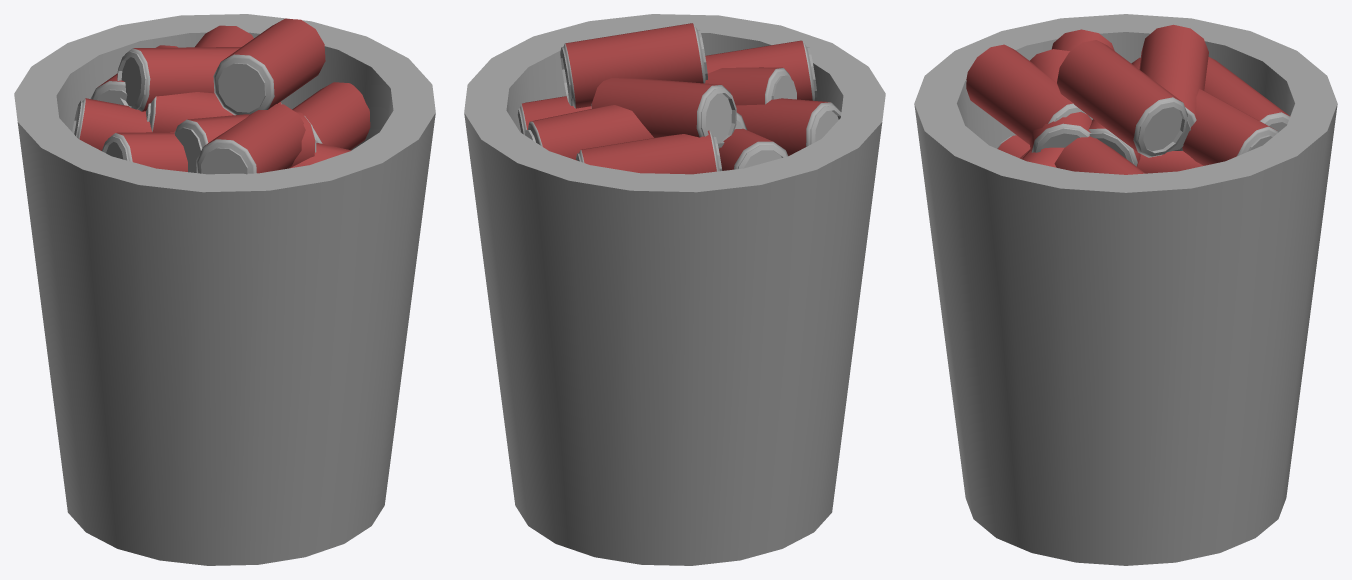
Rendered from trashCanWithCans.fbx.
3 views of the same model, side by side, from view 1: azimuth 30°, elevation 25°; view 2: azimuth 150°, elevation 25°; view 3: azimuth 270°, elevation 25° (orthographic).
Parts seen in each view (by area): view 1: pCylinder60; view 2: pCylinder60; view 3: pCylinder60.
Part boxes in pixels (<box>): pCylinder60: <box>14,14,435,565</box>; pCylinder60: <box>464,14,885,565</box>; pCylinder60: <box>914,14,1337,565</box>.
Size of the model in its own units: 9.76 by 11.63 by 9.76.
